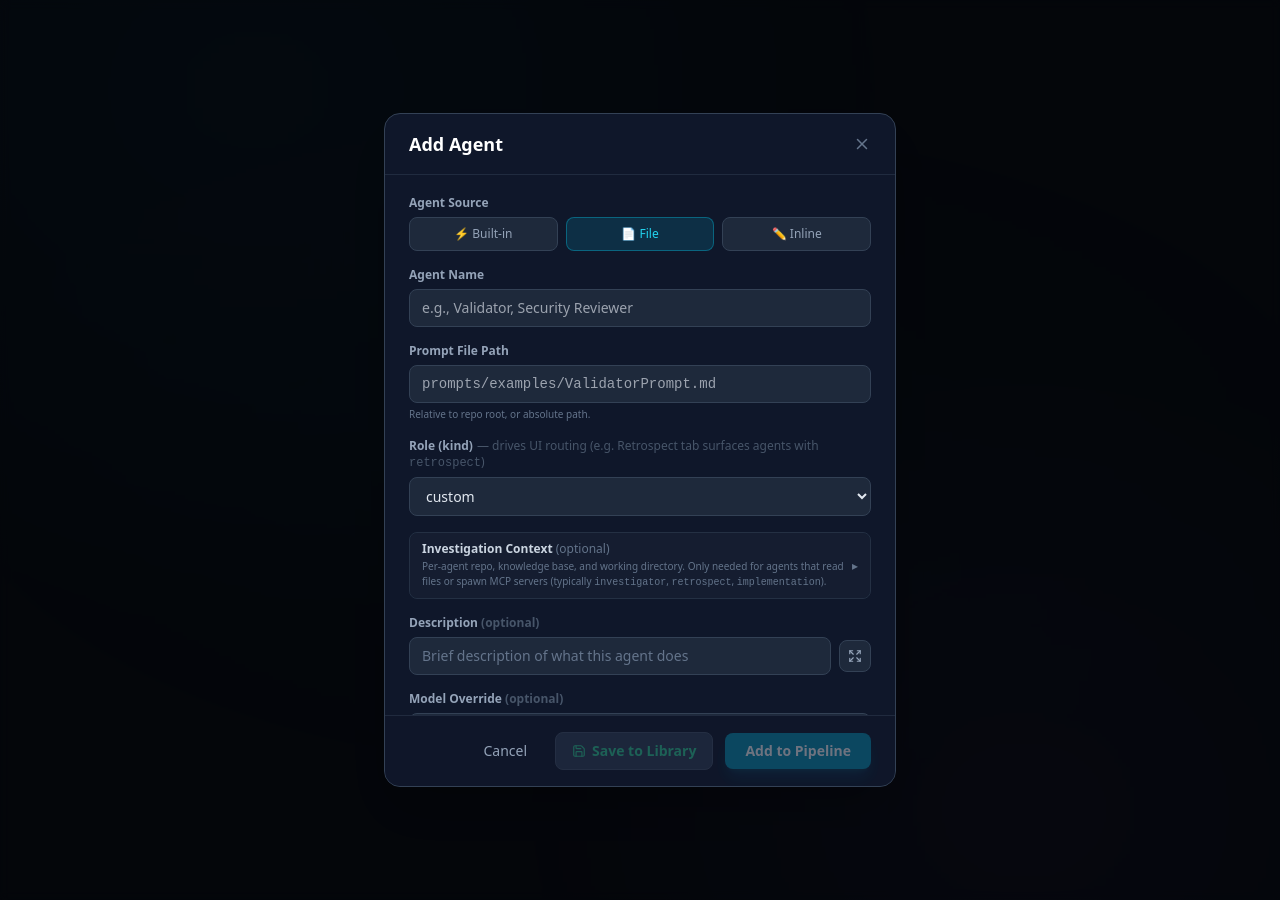
AgentModal — description popup › opens via the inline preview area click
Click the text "Brief description of what this agent does": (555,656) [422,646,688,665]
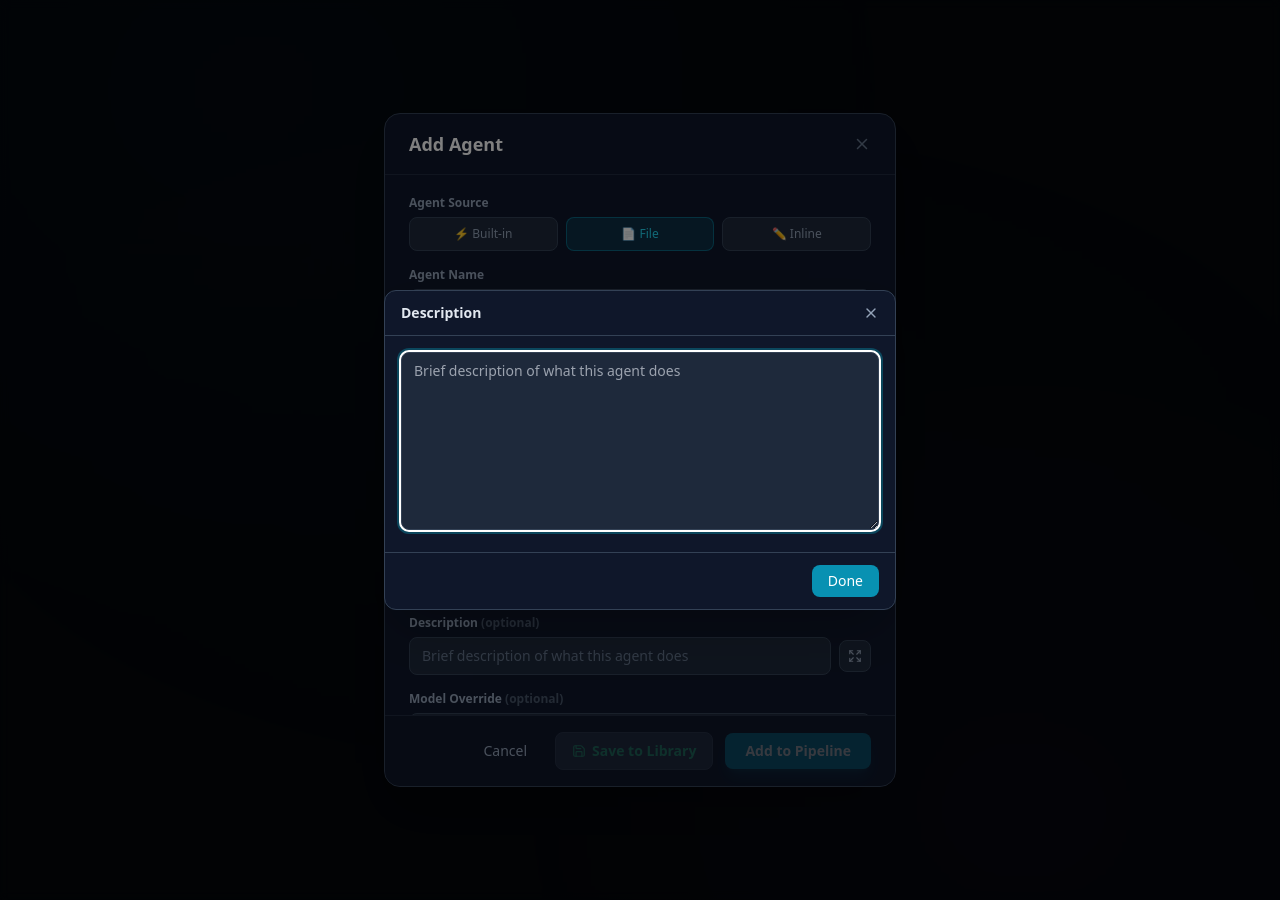
Expected: the button "Done" is shown, [812,565,879,597]
